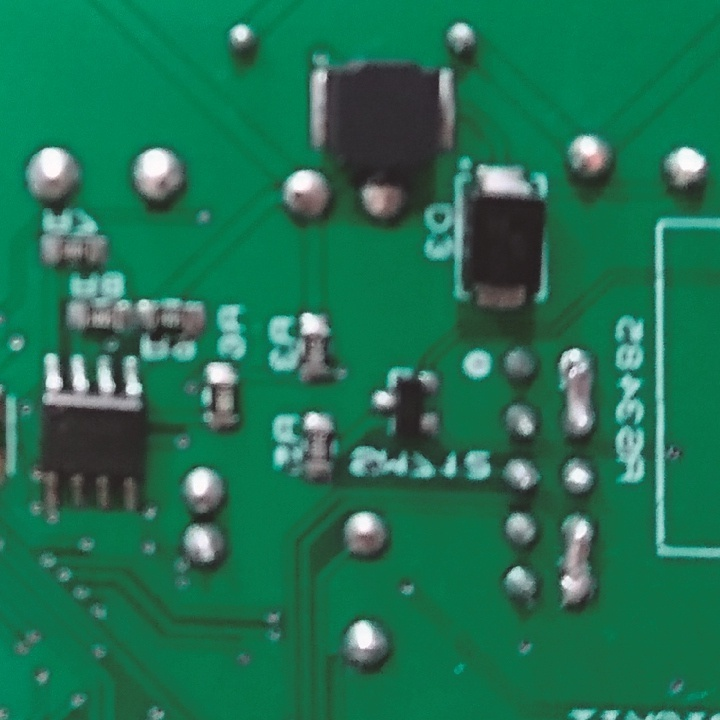P: (559, 347, 601, 440), (556, 513, 596, 606)
